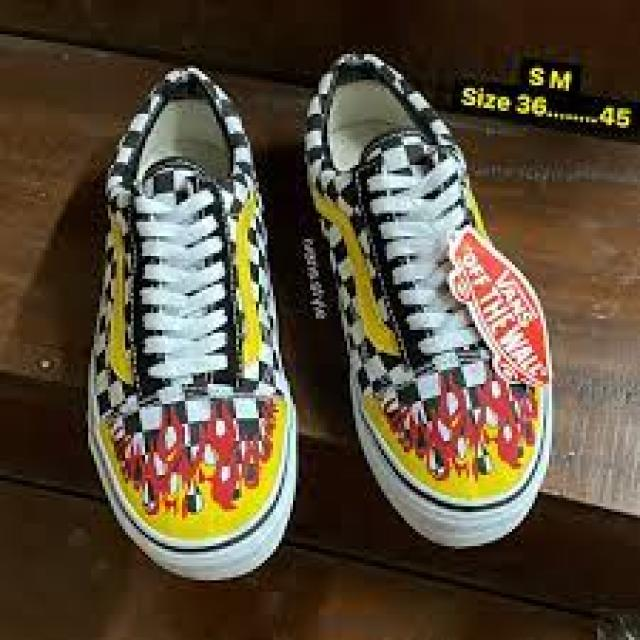shoe: (84, 52, 557, 581), (89, 55, 298, 584)
